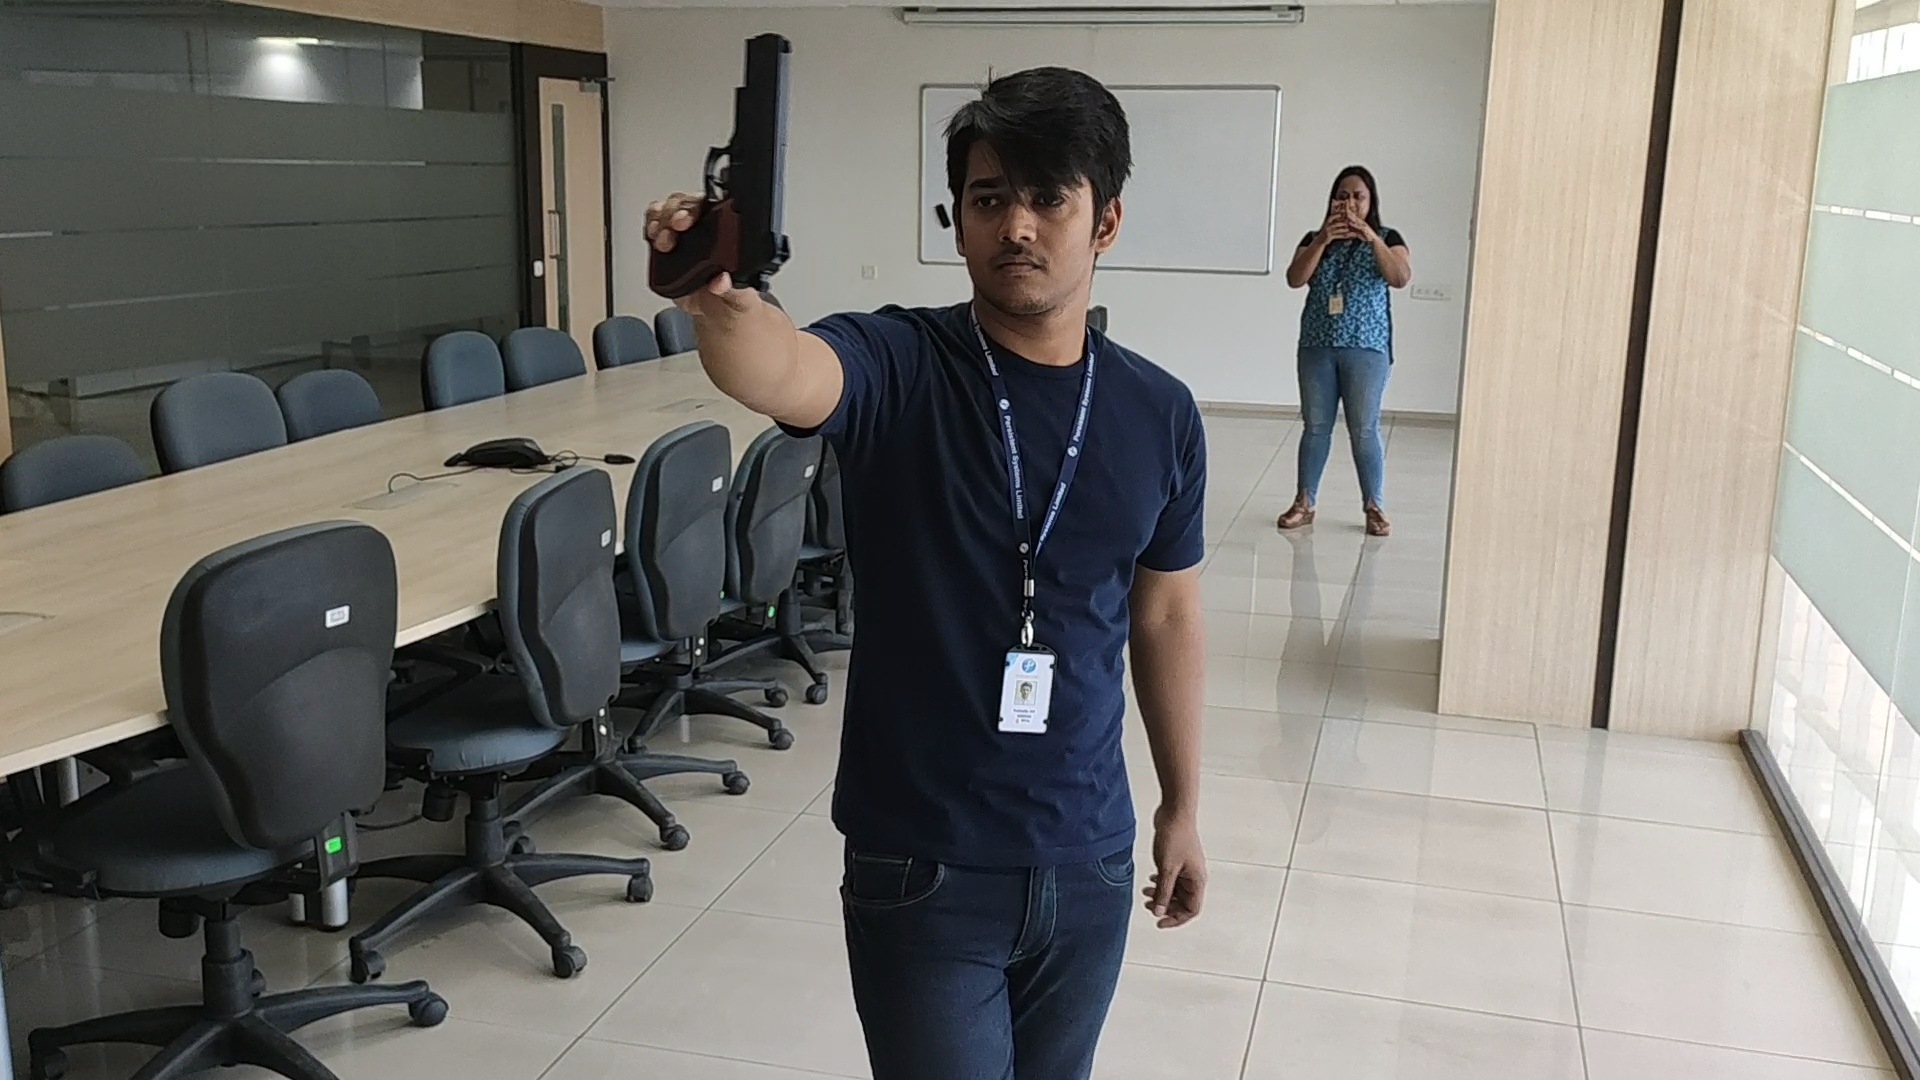gun: (642, 30, 796, 295)
